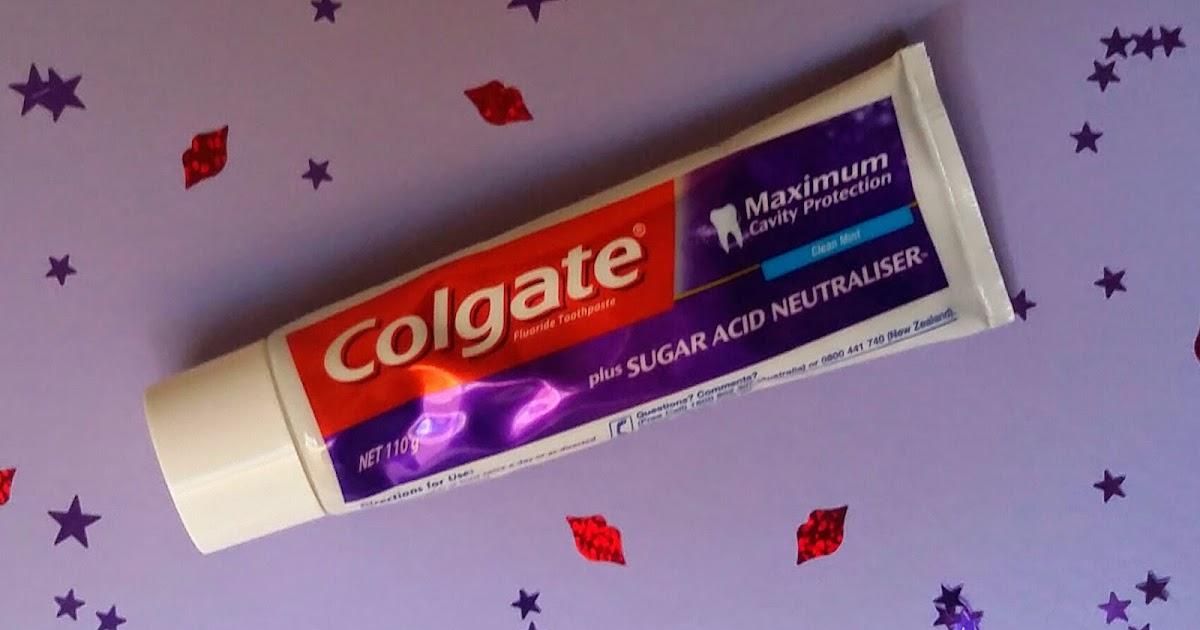toothpaste: (116, 22, 1042, 562)
